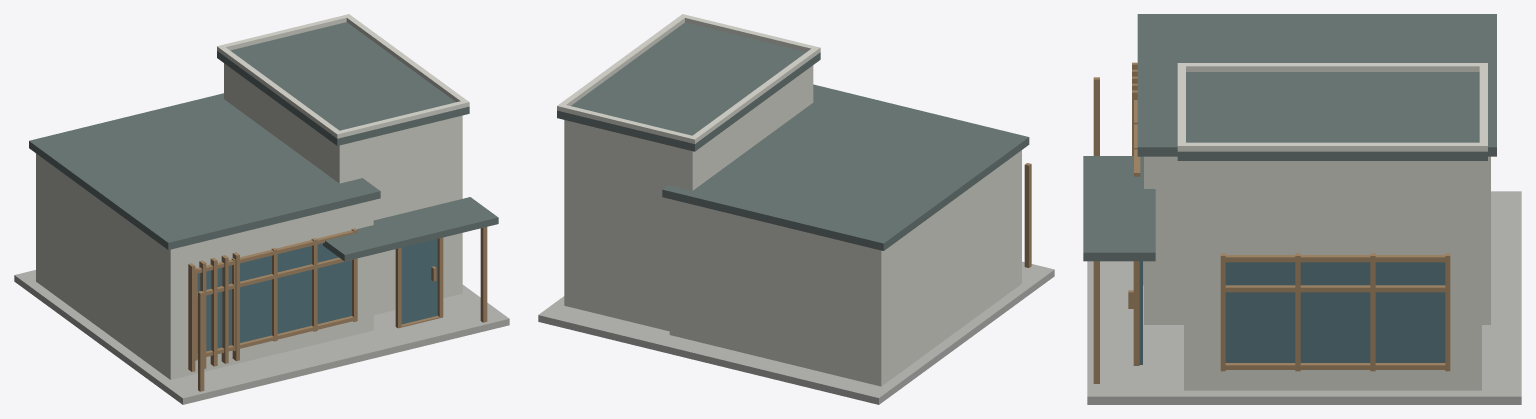
The model's file is house_small_03.glb.
3 renders of one model, left to right at view 1: azimuth 30°, elevation 25°; view 2: azimuth 150°, elevation 25°; view 3: azimuth 270°, elevation 25°, orthographic. The views are drawn at different scales.
Visible parts, largest first — view 1: House_small_03; view 2: House_small_03; view 3: House_small_03.
Boxes of the visible parts, x1=… form: House_small_03: x1=14, y1=14, x2=509, y2=404; House_small_03: x1=538, y1=14, x2=1054, y2=404; House_small_03: x1=1083, y1=14, x2=1521, y2=404.
Bounding box in the file's own units: 9.4 × 5.46 × 8.48.
